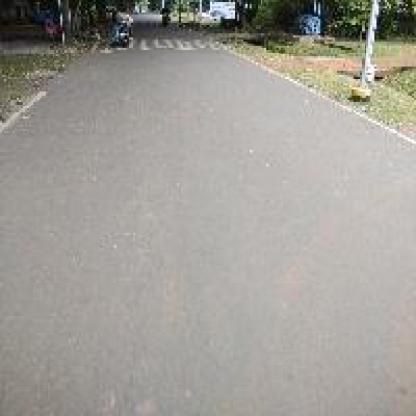Speed Bump: (133, 33, 231, 54)
